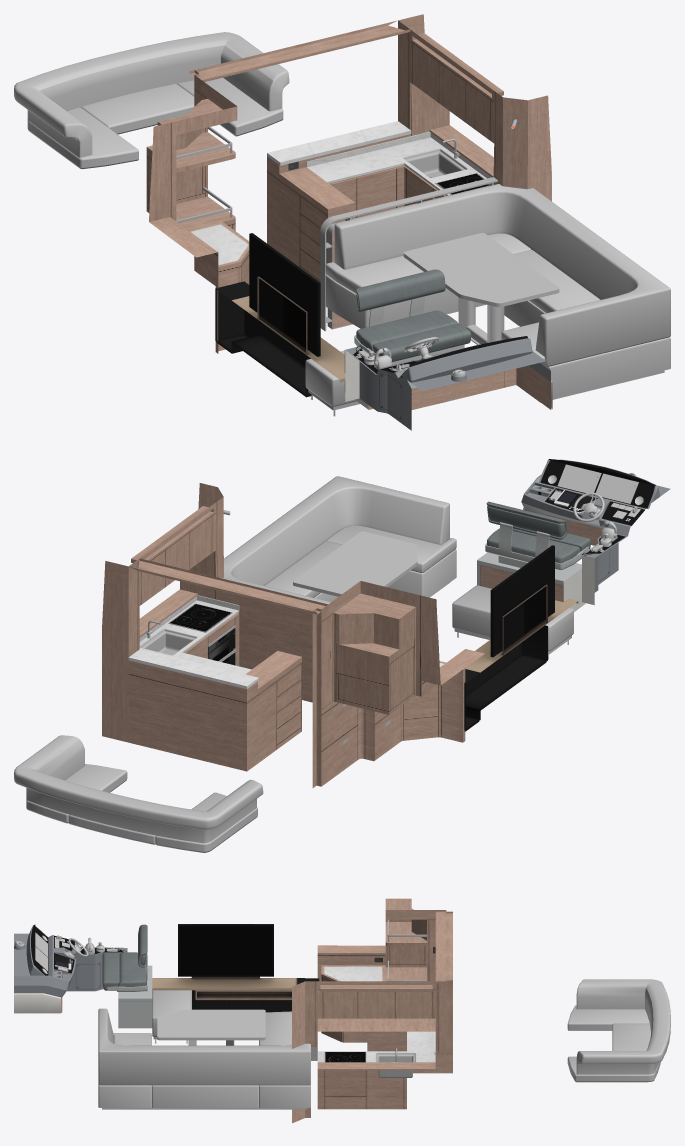
File: Yacht_Intside_Furniture.fbx
The picture shows the model from 3 angles, top to bottom: view 1: azimuth 30°, elevation 25°; view 2: azimuth 150°, elevation 25°; view 3: azimuth 270°, elevation 25°; orthographic projection. The views are drawn at different scales.
Parts seen in each view (by area): view 1: Sofa_02, Folding_Table_01, Cockpit_02, TV, Table_03, Folding_Table_02; view 2: Folding_Table_01, Sofa_02, Cockpit_02, TV, Table_03, Folding_Table_02; view 3: Sofa_02, Folding_Table_01, Cockpit_02, TV, Table_03.
Boxes of the visible parts, bbox=[...] form: Sofa_02: bbox=[14, 32, 670, 416]; Folding_Table_01: bbox=[146, 14, 551, 353]; Cockpit_02: bbox=[344, 269, 552, 430]; TV: bbox=[215, 233, 345, 397]; Table_03: bbox=[403, 233, 559, 344]; Folding_Table_02: bbox=[267, 121, 411, 163]; Folding_Table_01: bbox=[102, 483, 484, 787]; Sofa_02: bbox=[14, 476, 573, 852]; Cockpit_02: bbox=[477, 459, 670, 611]; TV: bbox=[464, 545, 578, 731]; Table_03: bbox=[293, 531, 417, 596]; Folding_Table_02: bbox=[128, 649, 258, 687]; Sofa_02: bbox=[98, 979, 670, 1109]; Folding_Table_01: bbox=[292, 898, 452, 1123]; Cockpit_02: bbox=[14, 924, 152, 1028]; TV: bbox=[152, 924, 319, 1012]; Table_03: bbox=[157, 1009, 265, 1045].
Size of the model in its own units: 373 by 207 by 895.
